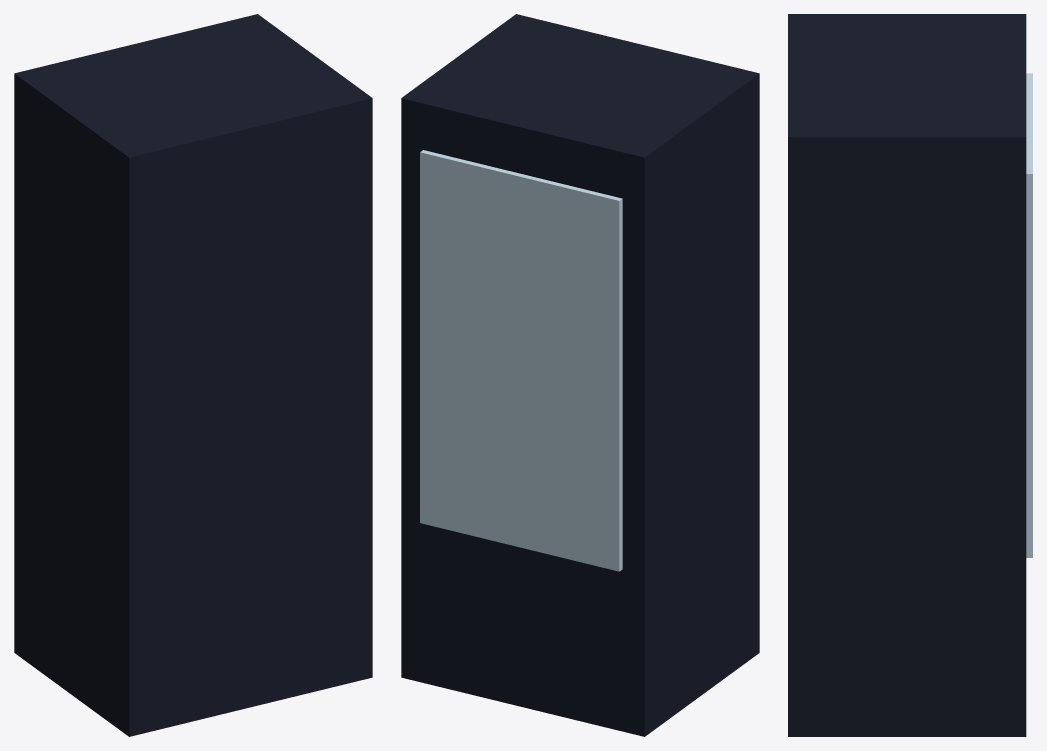
File: automat_przekaski.obj
The picture shows the model from 3 angles, left to right: view 1: azimuth 30°, elevation 25°; view 2: azimuth 150°, elevation 25°; view 3: azimuth 270°, elevation 25°; orthographic projection. The views are drawn at different scales.
Visible parts, largest first — view 1: Cube; view 2: Cube; view 3: Cube.
Part boxes in pixels (box(x1,y1,x2,y2)): Cube: box(14, 14, 372, 736); Cube: box(401, 14, 759, 736); Cube: box(788, 14, 1032, 736).
Bounding box in the file's own units: 2.2 × 5 × 1.85.
